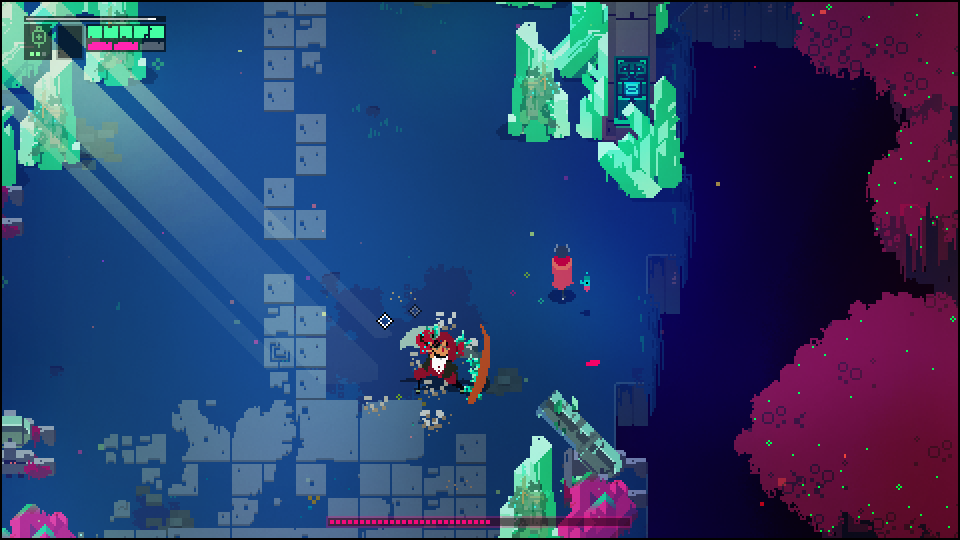hanged_man: (401, 315, 493, 406)
player: (547, 242, 576, 304)
